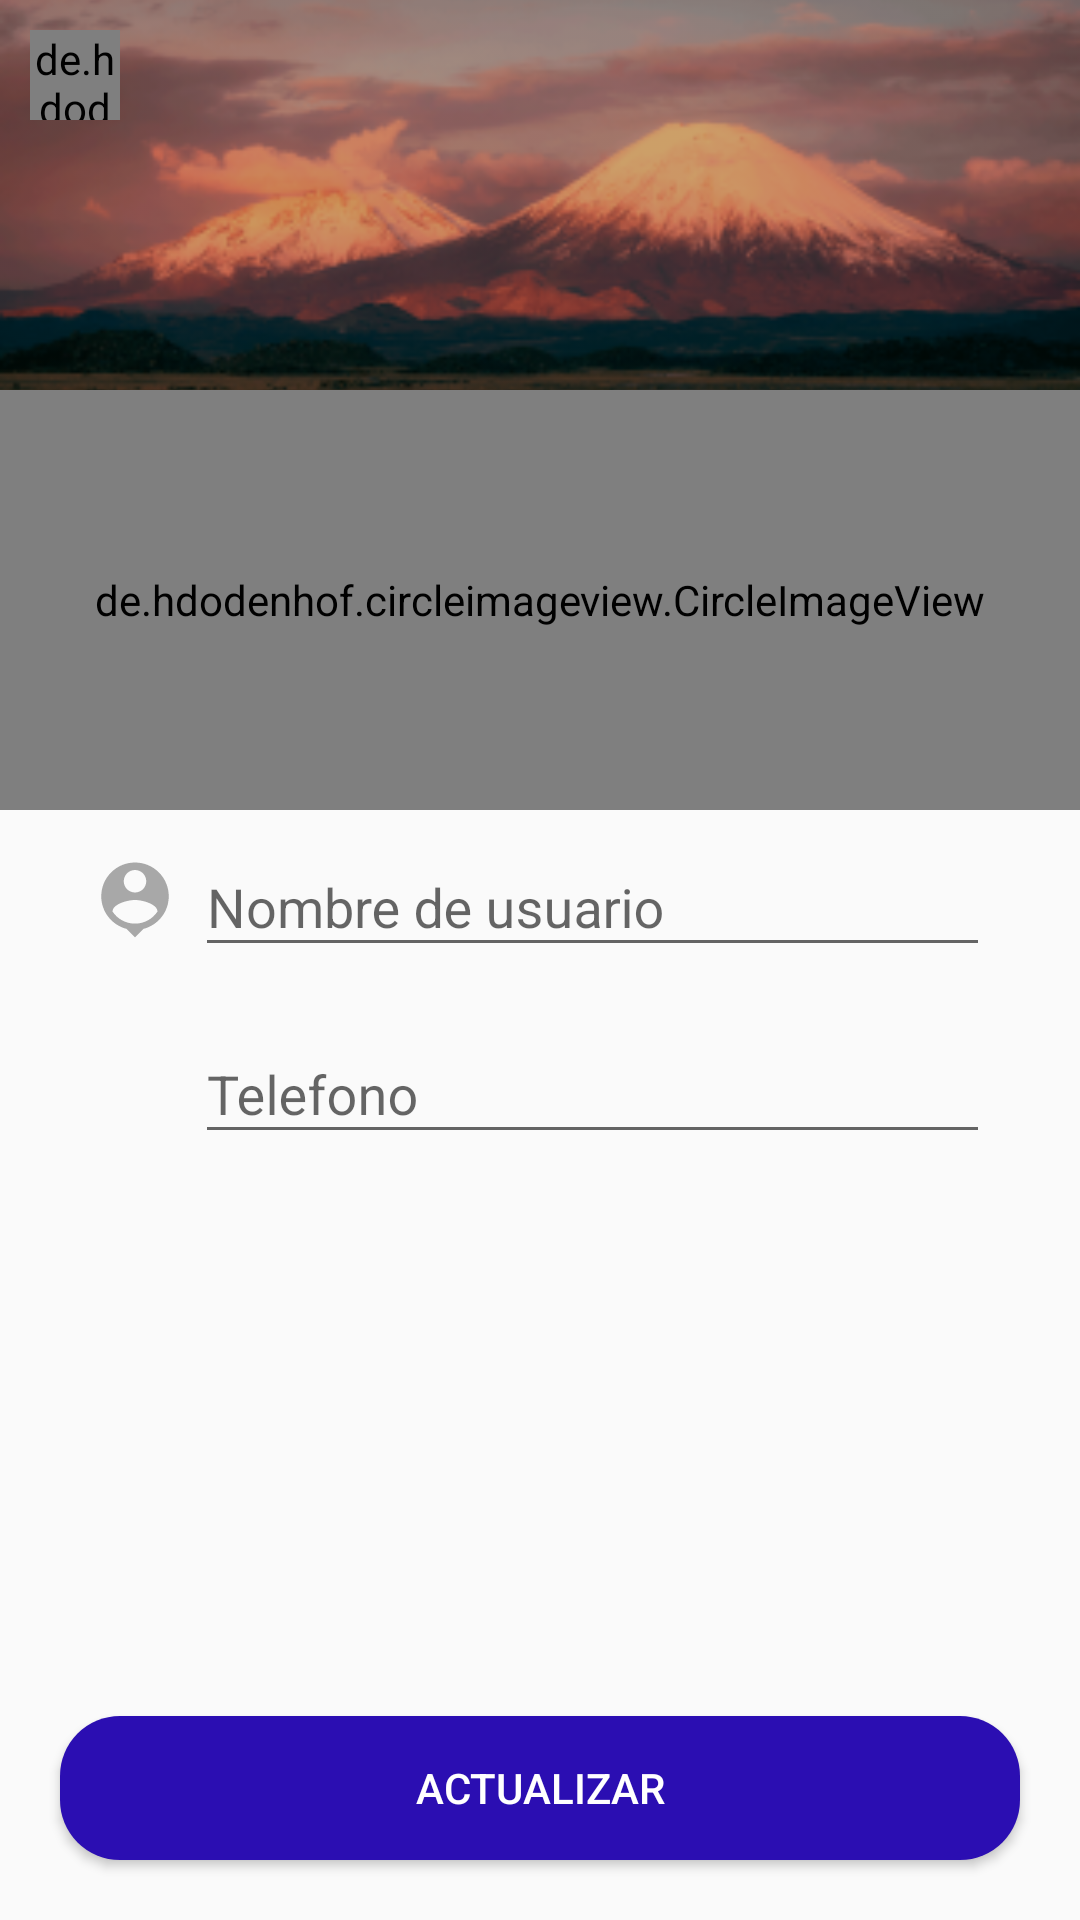

Named icons in this screenshot (1080 x 1920) and their centers, (x=x, y=y):
person pin: (x=135, y=899)
